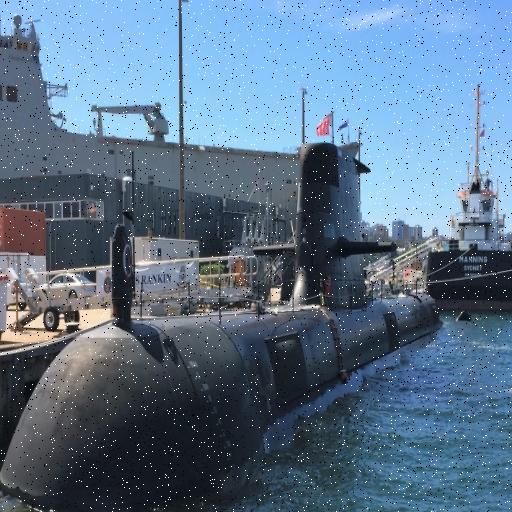submarine: (1, 134, 447, 506)
